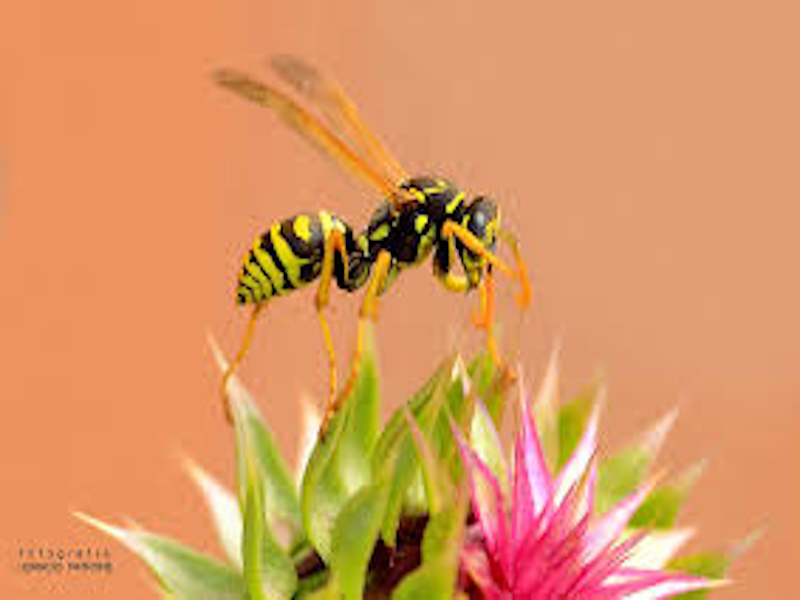chax: (188, 28, 552, 444)
